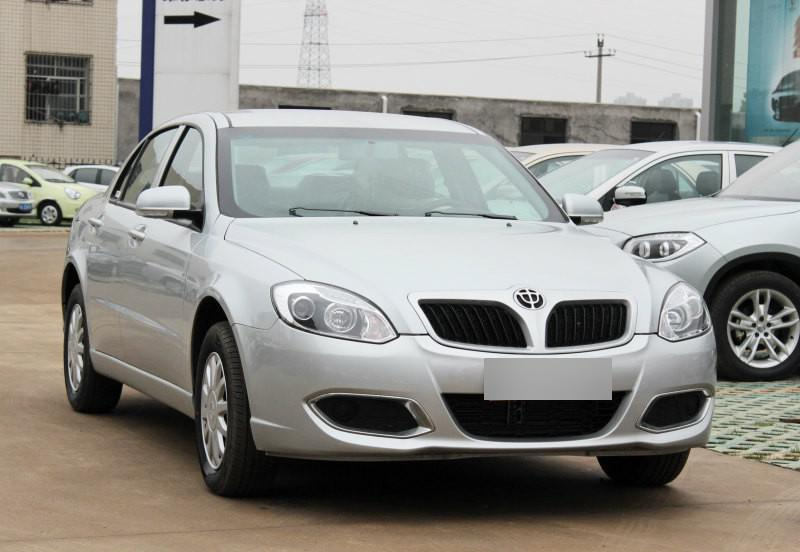Wagon: (61, 108, 718, 500)
